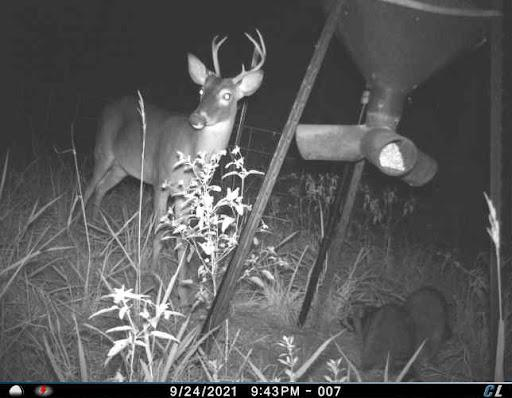Deer: (70, 24, 276, 322)
